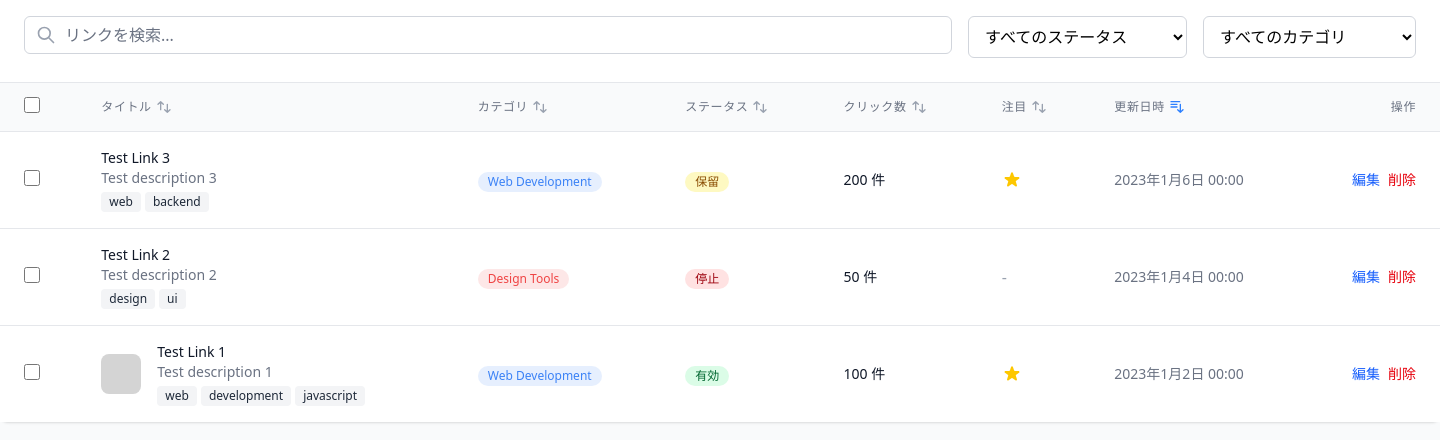
Test: LinkManagementTable › filters links by category
Select "Design Tools" in the 2nd dropdown showing "すべてのカテゴリ": coordinates (1310, 37) [1203,16,1416,58]
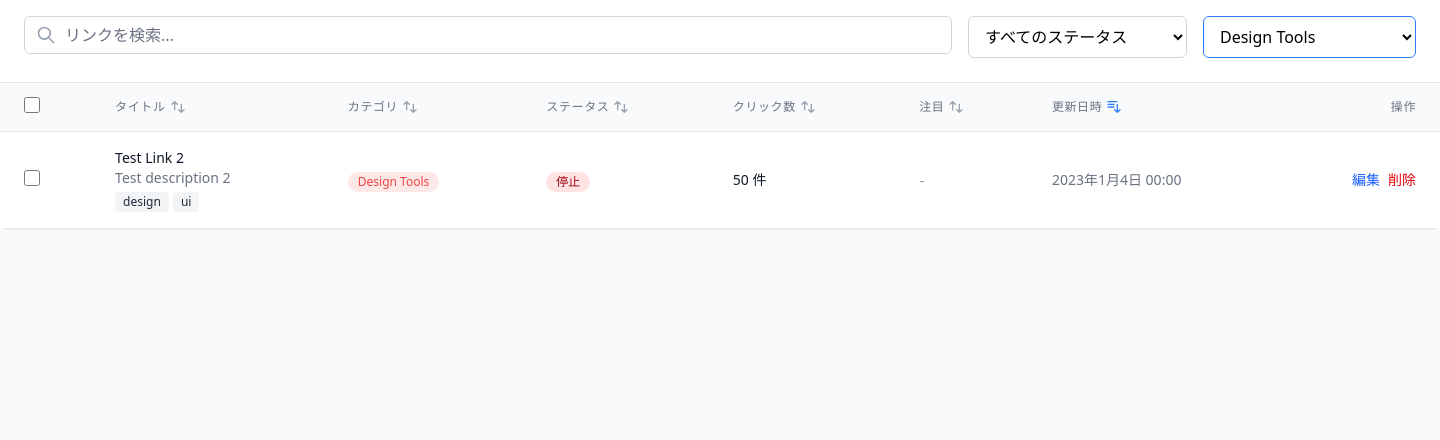
Expected: the text "Test Link 2" is shown, [115,148,184,167]
Result: the text "Test Link 1" is gone
Result: the text "Test Link 3" is gone
